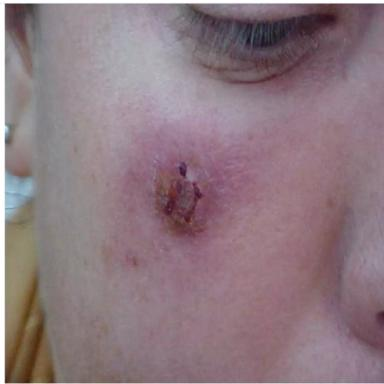Leishmanios: (153, 140, 211, 236)
